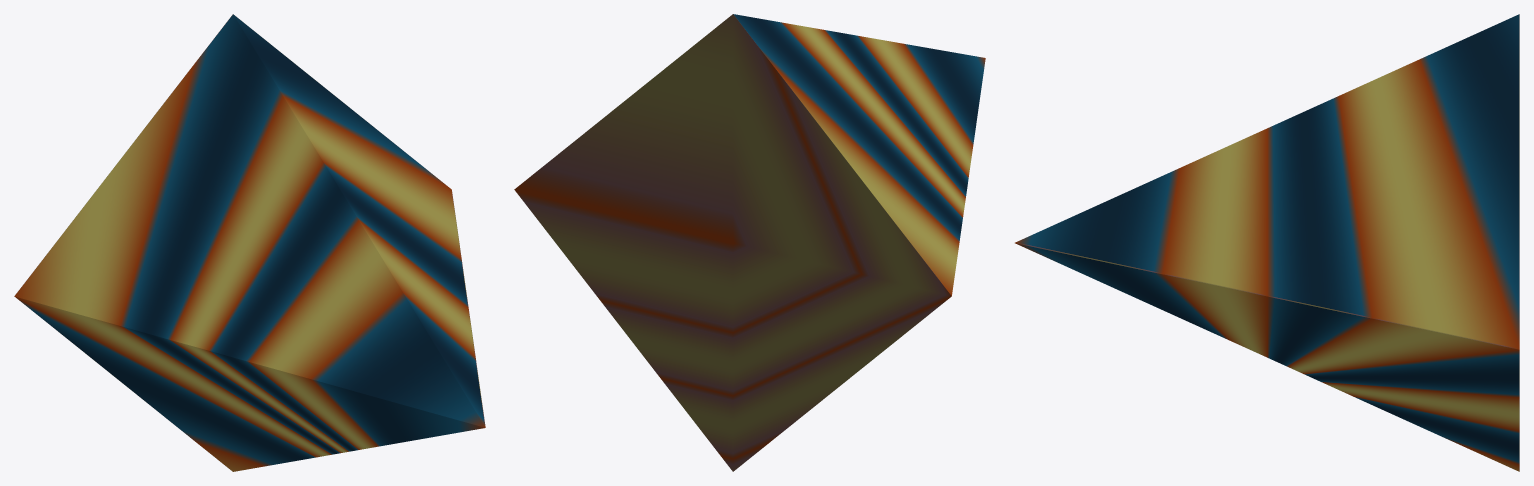
The model's file is pyramid-sunset-c2.glb.
3 views of the same model, side by side, from view 1: azimuth 30°, elevation 25°; view 2: azimuth 150°, elevation 25°; view 3: azimuth 270°, elevation 25° (orthographic).
Parts seen in each view (by area): view 1: world; view 2: world; view 3: world.
Boxes of the visible parts, left/top/right/bottom form: world: left=14, top=14, right=485, bottom=471; world: left=514, top=14, right=985, bottom=471; world: left=1015, top=14, right=1519, bottom=471.
Size of the model in its own units: 1.2 by 1.2 by 1.2.
1 material, 1 textured.
